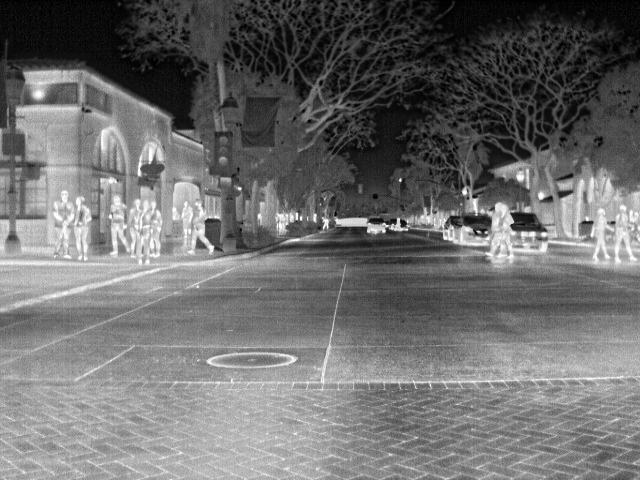car: (509, 214, 549, 251), (457, 214, 495, 246), (441, 215, 462, 242), (364, 214, 388, 234)
person: (189, 199, 218, 254), (589, 207, 616, 263), (613, 204, 639, 262), (107, 196, 130, 256), (73, 195, 94, 260), (135, 200, 155, 264), (56, 191, 75, 258), (495, 202, 515, 262), (484, 202, 503, 260), (148, 200, 162, 257), (179, 197, 194, 246), (133, 198, 145, 232), (319, 214, 331, 230)
